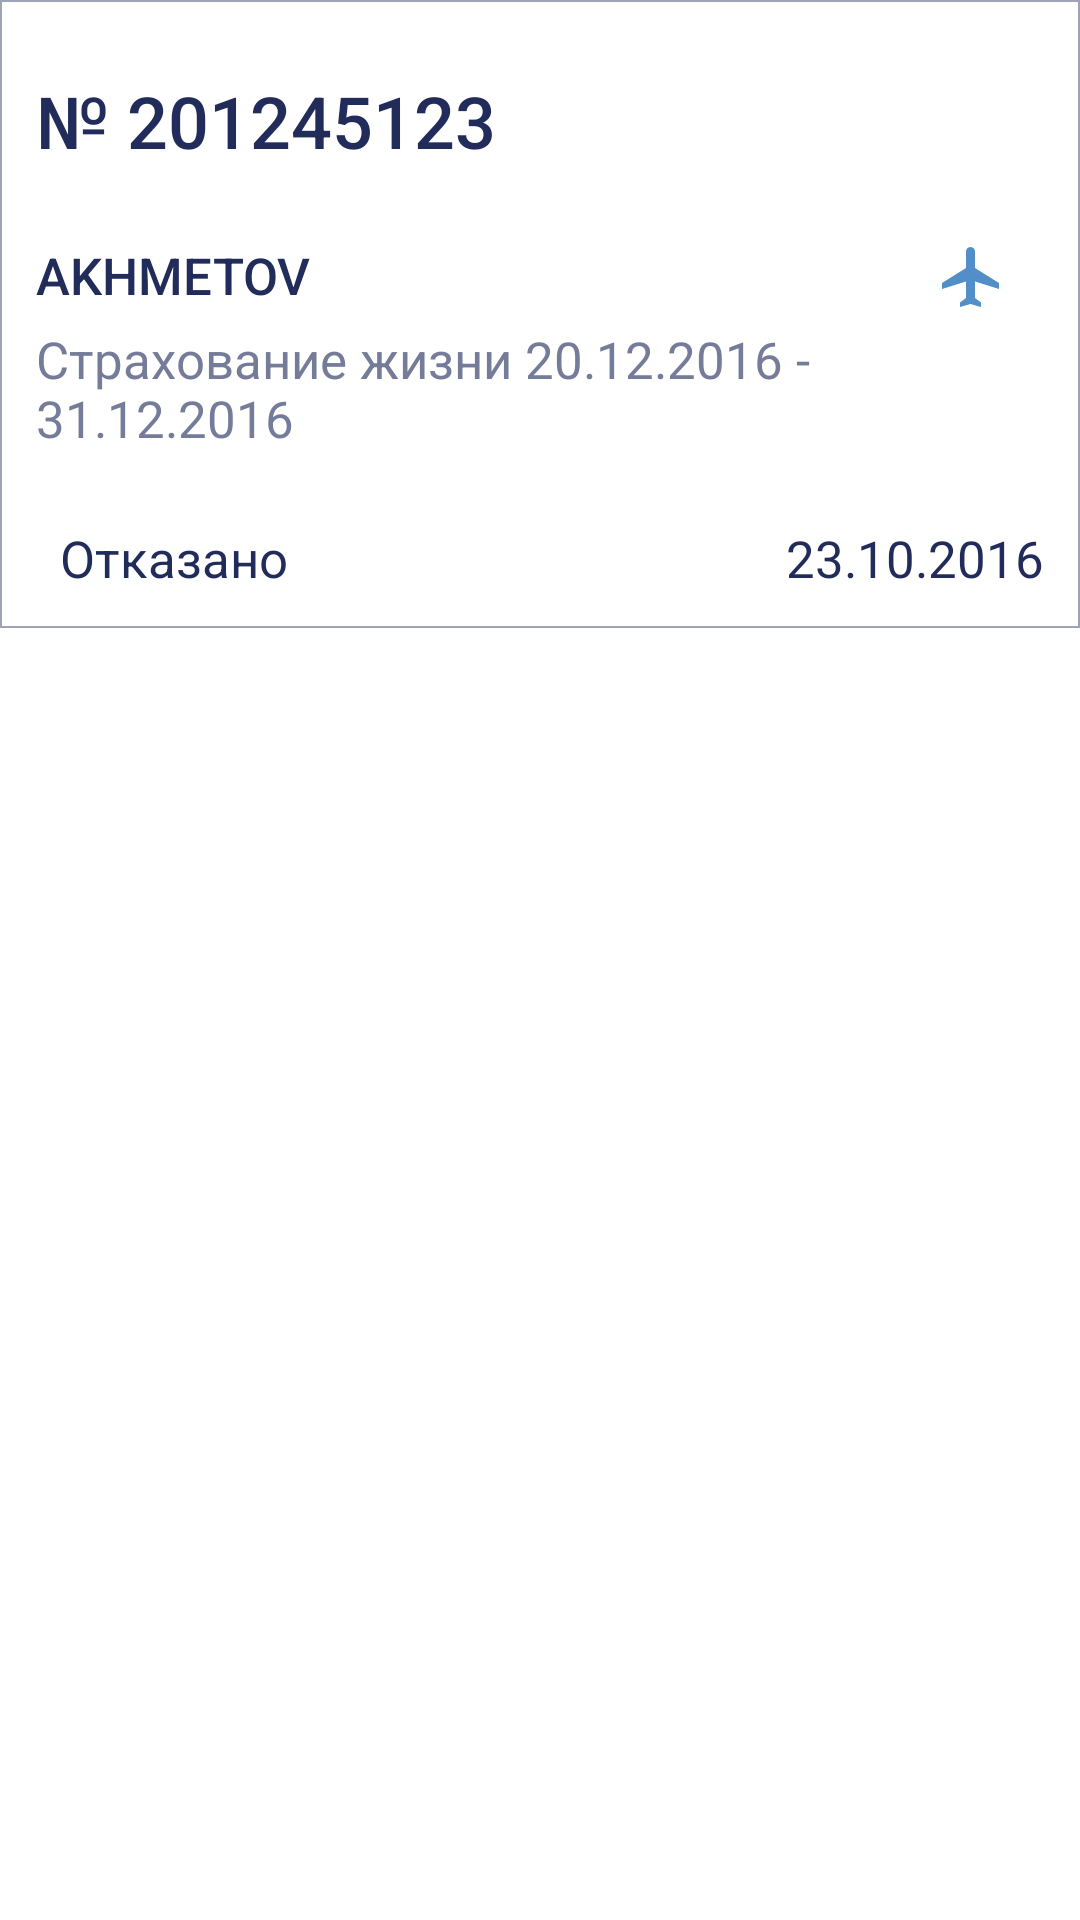

Screen size 1080 x 1920. Icon name, then its center in pixels as point (x, y):
flight: point (970, 277)
